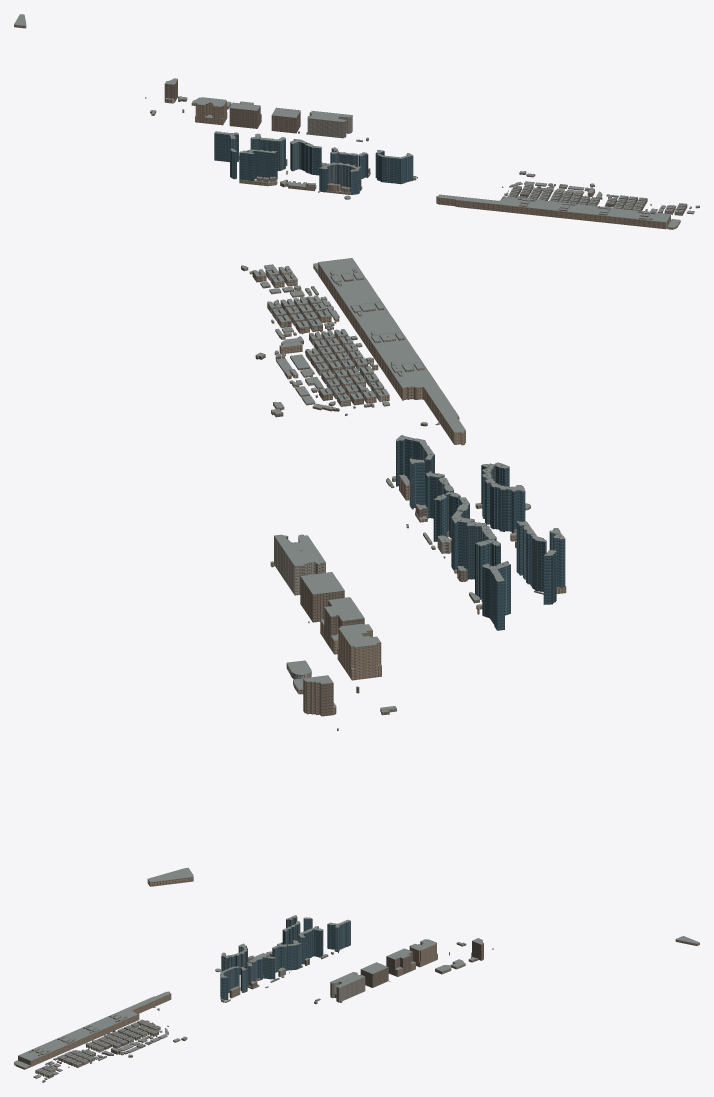
Rendered from kai-tak-buildings.glb.
3 views of the same model, one above another, from view 1: azimuth 30°, elevation 25°; view 2: azimuth 150°, elevation 25°; view 3: azimuth 270°, elevation 25° (orthographic). The views are drawn at different scales.
Visible parts, largest first — view 1: District_32_-11, District_29_-18, District_27_-17, District_26_-16, District_26_-17, District_28_-20, District_28_-15, District_28_-16, District_27_-21, District_29_-15, District_28_-19, District_26_-18 (+6 smaller); view 2: District_32_-11, District_26_-17, District_27_-17, District_27_-21, District_29_-18, District_33_-11, District_29_-15, District_34_-10, District_32_-12, District_26_-18, District_28_-16, District_28_-19 (+5 smaller); view 3: District_32_-11, District_27_-17, District_28_-16, District_29_-18, District_29_-15, District_26_-18, District_28_-20, District_27_-21, District_33_-11, District_28_-19, District_28_-15, District_34_-10 (+4 smaller).
Boxes of the visible parts, x1,y1,x2,y2 form: District_32_-11: (436,194,670,229); District_29_-18: (306,111,352,138); District_27_-17: (255,133,307,171); District_26_-16: (239,150,277,186); District_26_-17: (230,136,263,179); District_28_-20: (229,101,261,128); District_28_-15: (327,153,362,194); District_28_-16: (305,143,348,175); District_27_-21: (195,97,226,124); District_29_-15: (358,150,390,182); District_28_-19: (271,107,300,133); District_26_-18: (214,131,239,162); District_32_-11: (318,258,465,445); District_26_-17: (485,529,565,604); District_27_-17: (451,510,496,599); District_27_-21: (338,623,381,680); District_29_-18: (274,534,325,595); District_33_-11: (279,330,358,373); District_29_-15: (399,448,444,522); District_34_-10: (267,295,339,333); District_32_-12: (311,368,384,408); District_26_-18: (476,561,510,630); District_28_-16: (423,484,469,558); District_28_-19: (300,572,344,622); District_32_-11: (18,991,171,1066); District_27_-17: (287,928,323,970); District_28_-16: (255,944,289,982); District_29_-18: (330,972,365,1002); District_29_-15: (227,962,259,998); District_26_-18: (327,919,350,954); District_28_-20: (386,948,415,981); District_27_-21: (409,939,437,966); District_33_-11: (91,1034,133,1054); District_28_-19: (360,962,388,987); District_28_-15: (224,949,260,981); District_34_-10: (58,1049,95,1067).
Size of what is drawn, in the model's own units: 1335 by 118 by 2675.
6 materials, 5 textured.
